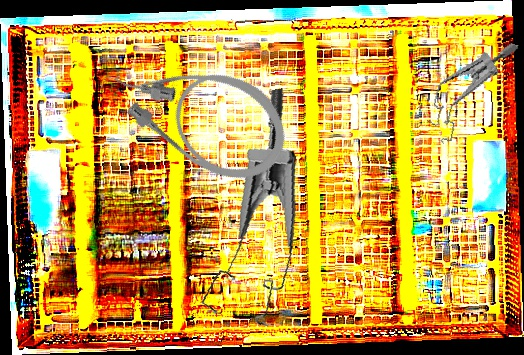Cannula: (97, 23, 304, 199)
Speculum: (171, 87, 321, 336), (421, 26, 520, 157)
